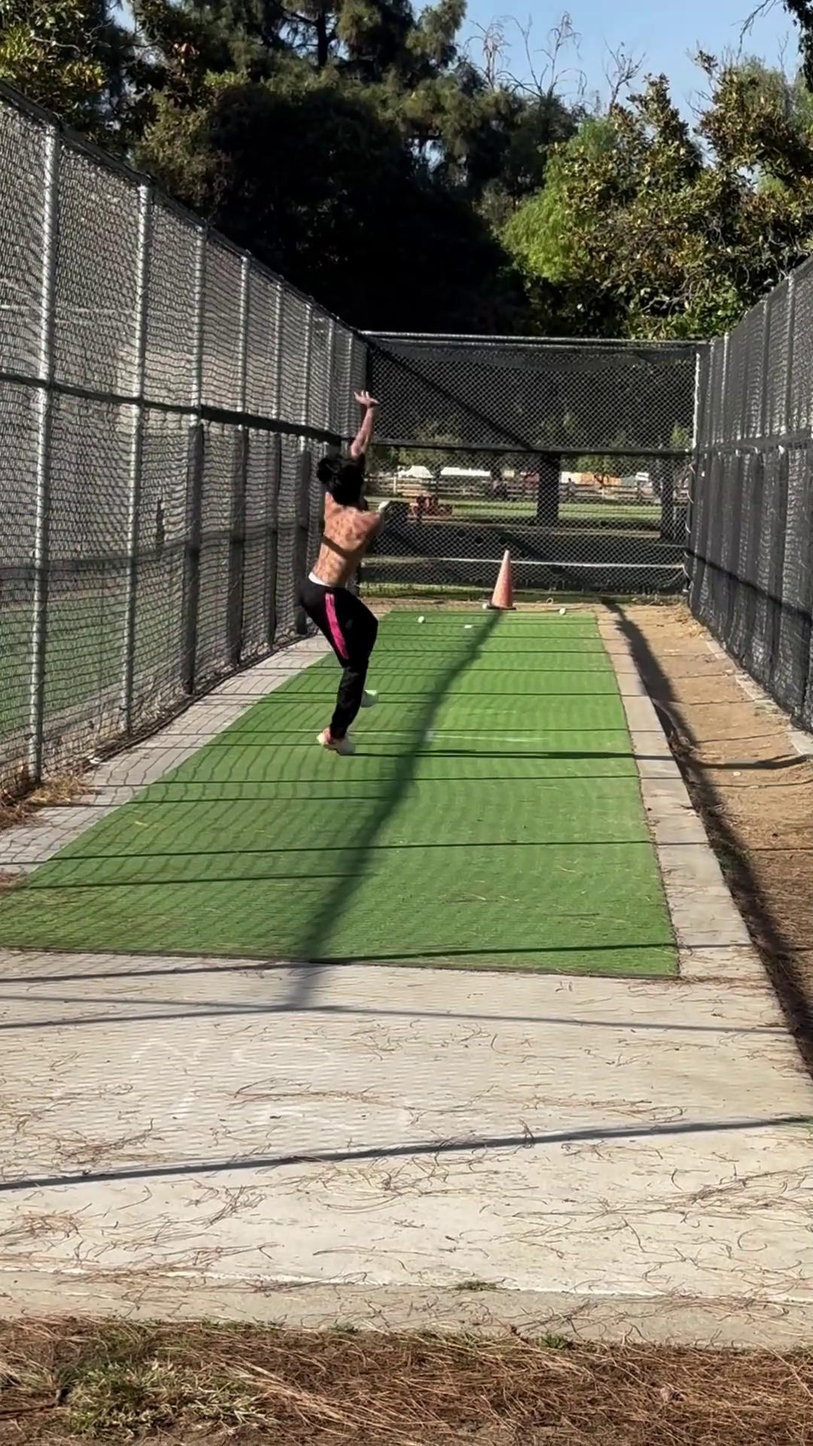ball: (374, 498, 394, 515)
